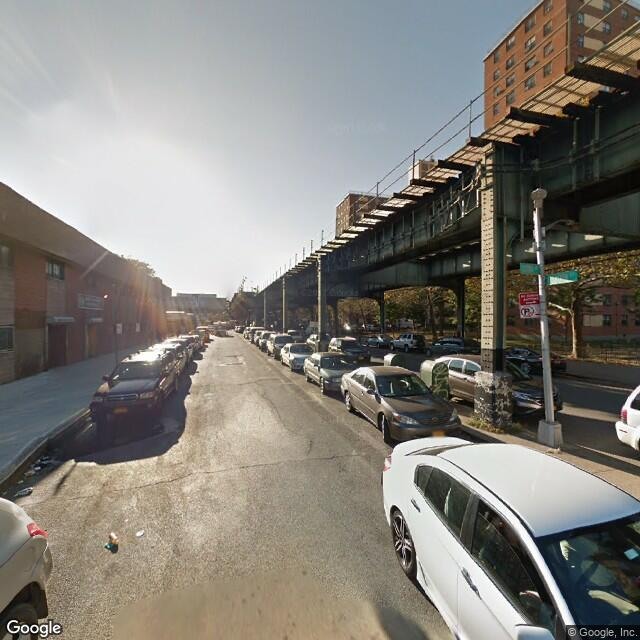litter: (95, 526, 141, 555), (538, 439, 578, 461), (20, 451, 61, 470), (6, 481, 46, 500), (7, 466, 38, 483)
